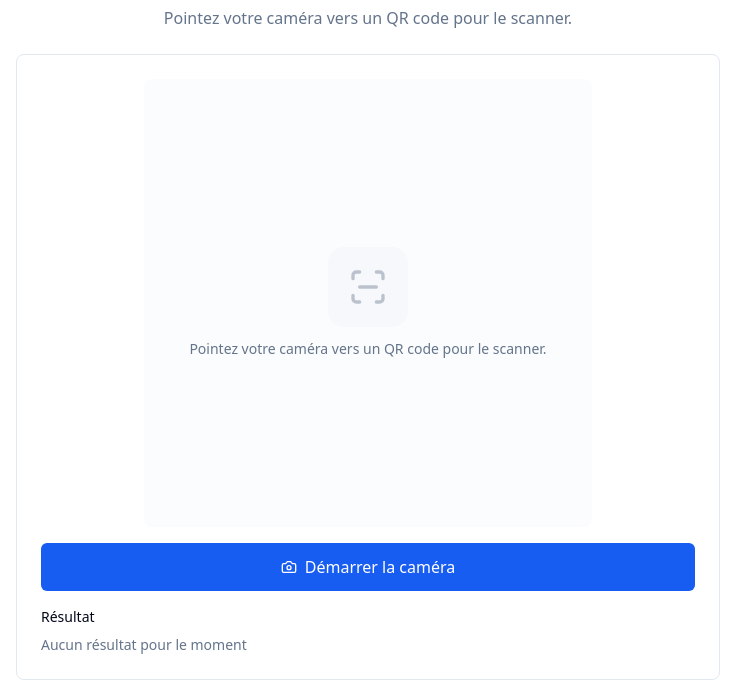
Test: QR scanner camera lifecycle › reads a decoded URL without crashing when the library replaces camera DOM
The width and height of the screenshot is (737, 697).
(page scrolled)
Click the button "Démarrer la caméra" at (368, 567), box [41,543,695,591]
(page scrolled)
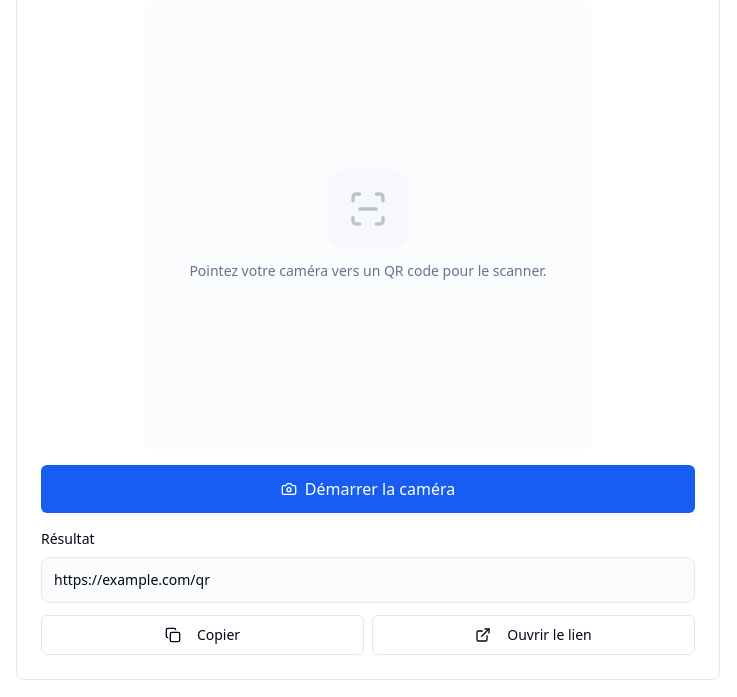
Expected: the text "https://example.com/qr" is shown, [54,570,210,589]
